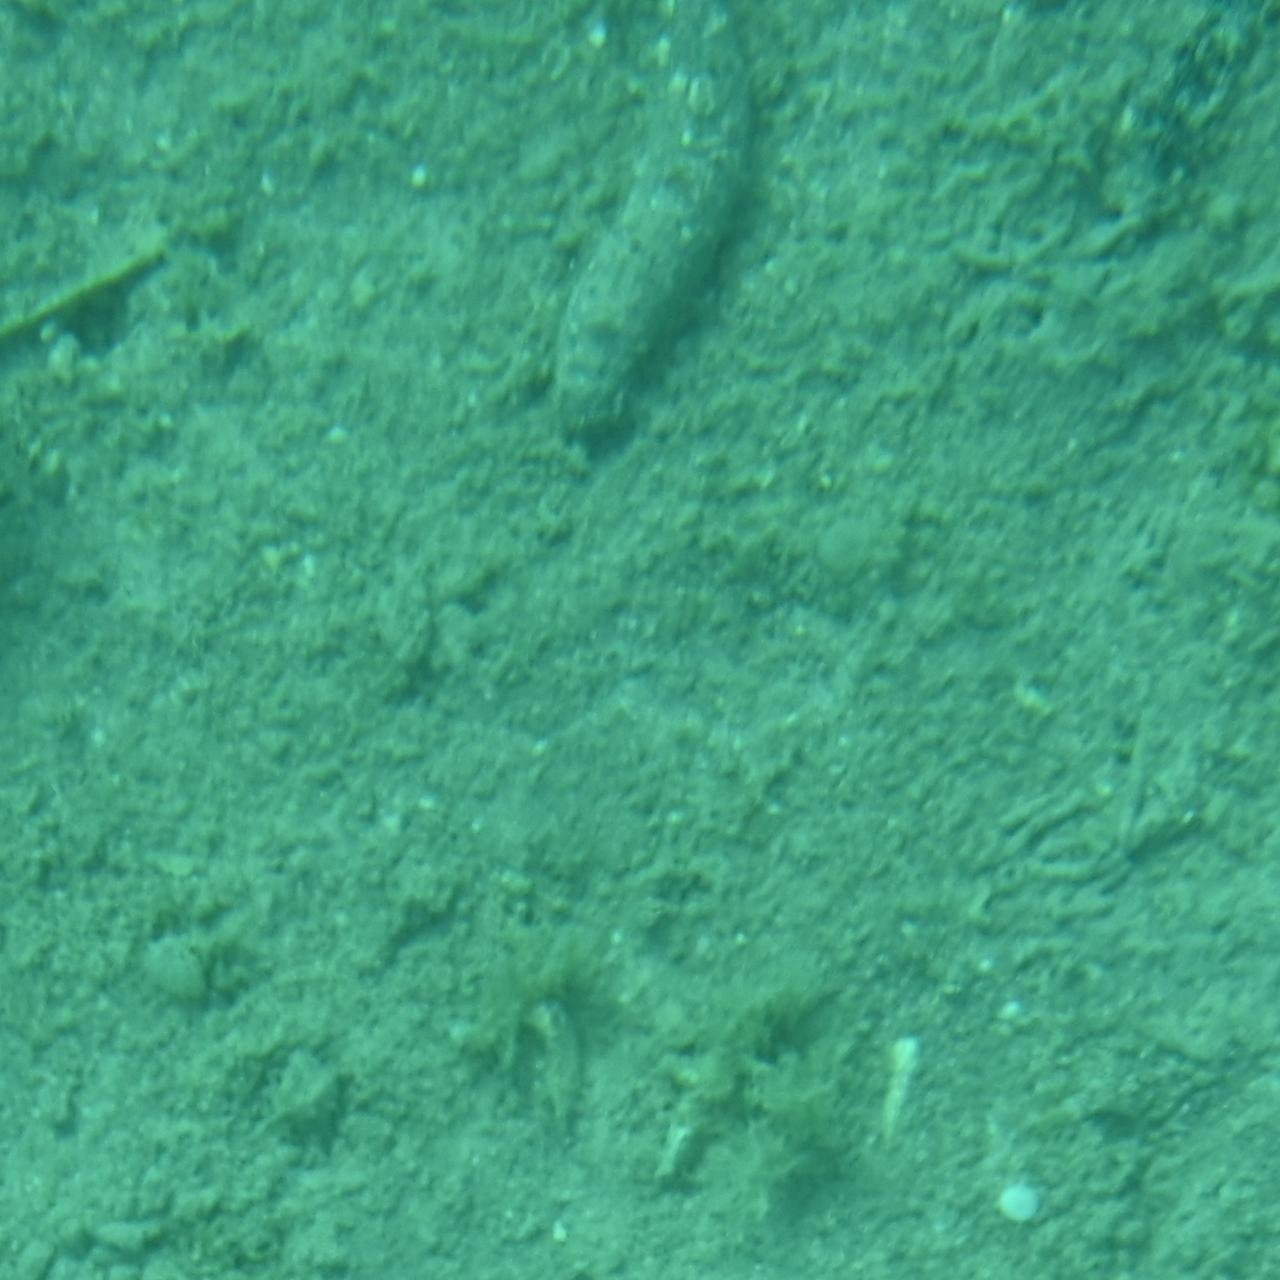Holothuria tubulosa: (511, 0, 769, 470)
